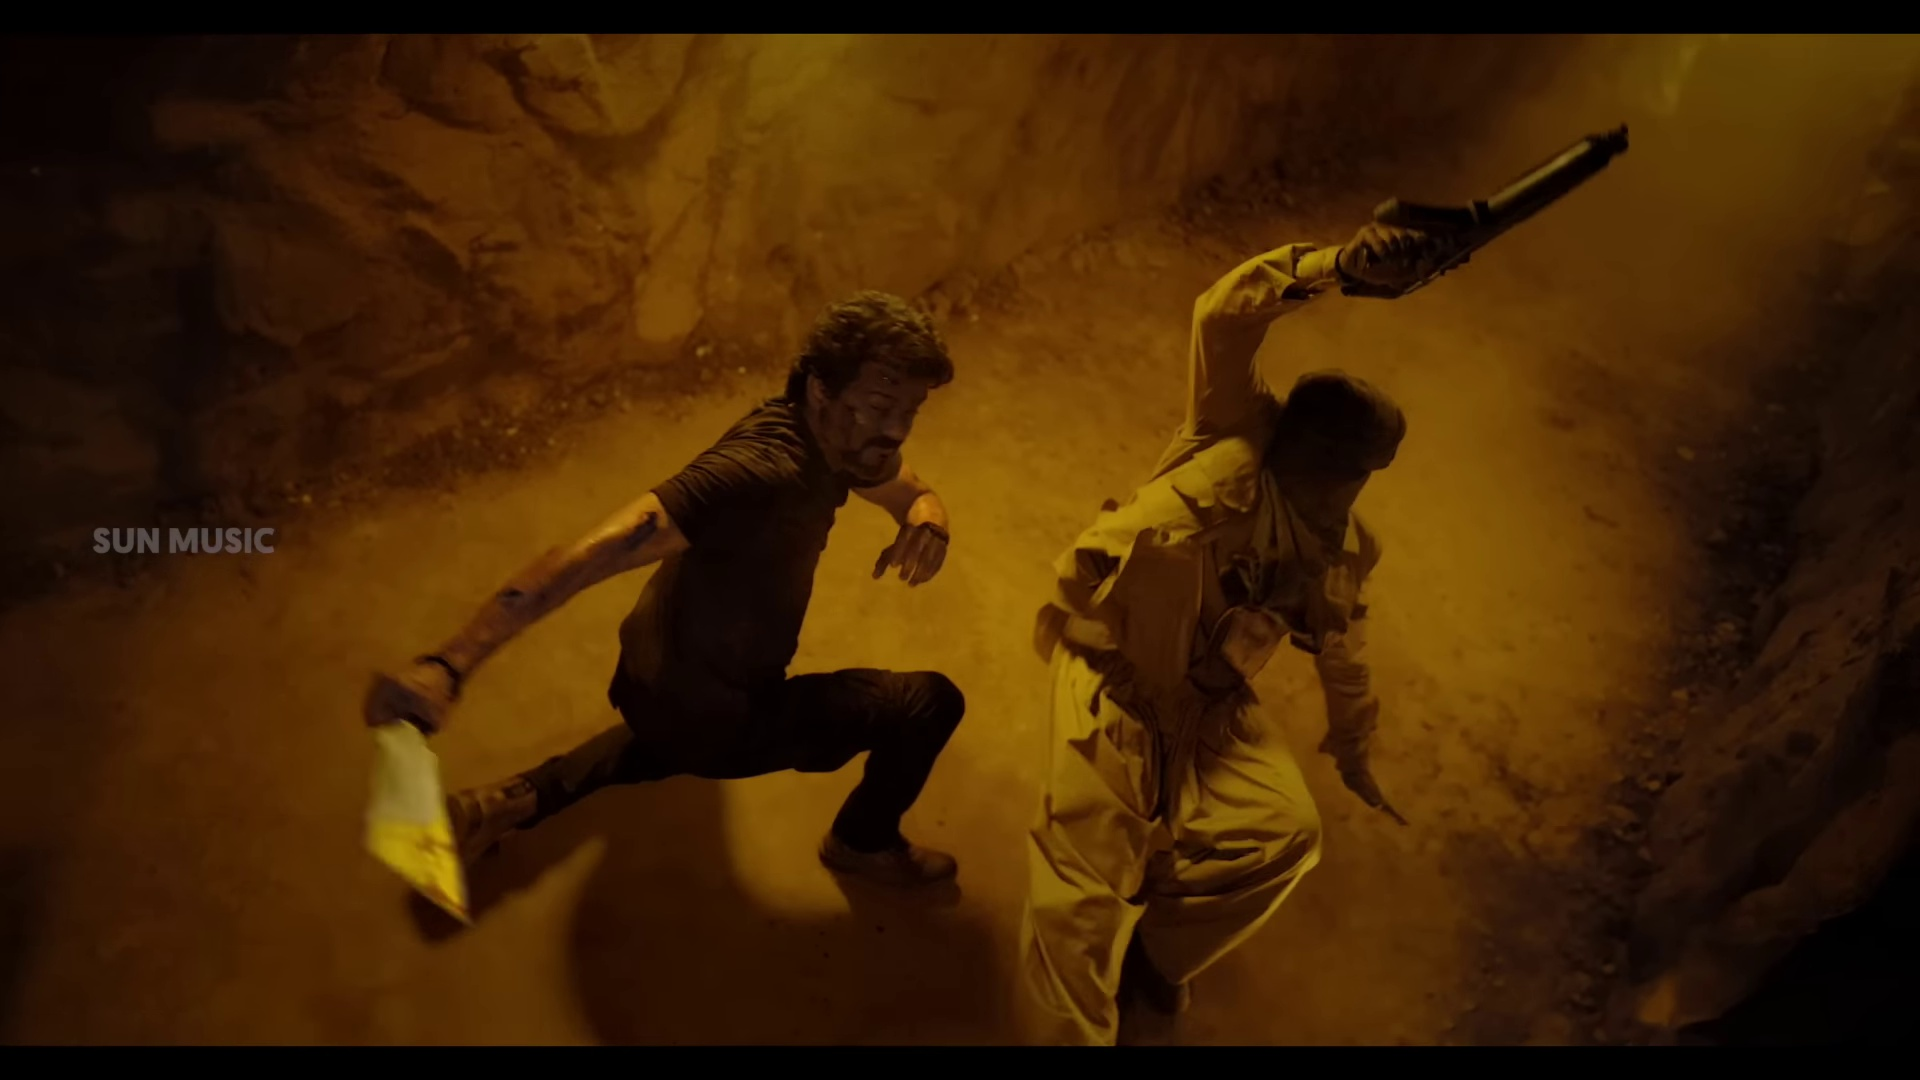gun: (1336, 117, 1647, 303)
p_w_gun: (1014, 119, 1648, 1055)
p_wo_gun_carrying_another_object: (367, 285, 982, 934)
